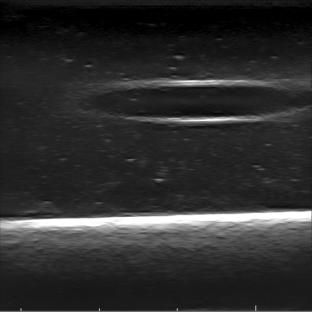vessel: (87, 77, 304, 125)
